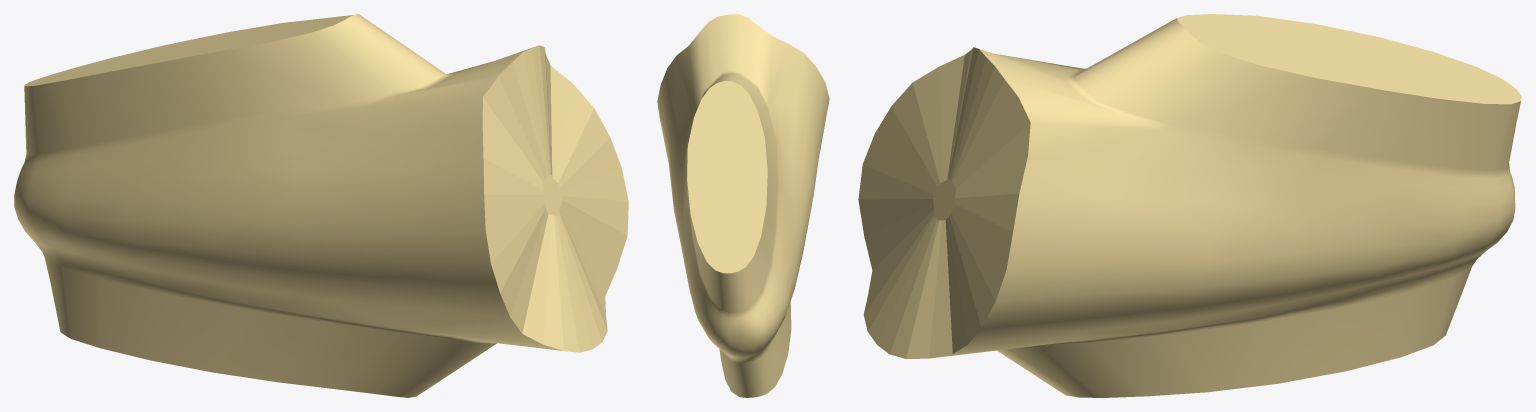
File: Sacabambaspis_Tail_3_Fake.fbx
The picture shows the model from 3 angles, left to right: view 1: azimuth 30°, elevation 25°; view 2: azimuth 150°, elevation 25°; view 3: azimuth 270°, elevation 25°; orthographic projection. The views are drawn at different scales.
Visible parts, largest first — view 1: polySurface2; view 2: polySurface2; view 3: polySurface2.
Part boxes in pixels (<box>): polySurface2: <box>14,14,628,397</box>; polySurface2: <box>657,14,829,397</box>; polySurface2: <box>858,14,1521,397</box>.
Size of the model in its own units: 26.27 by 24.26 by 36.27.
